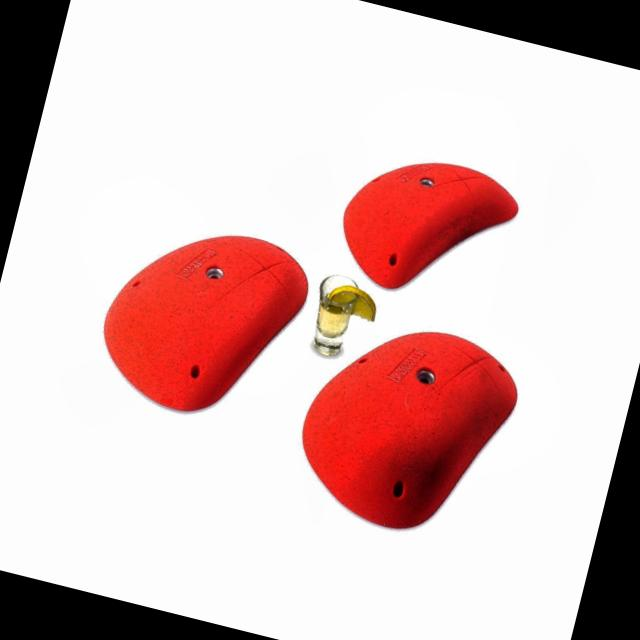Hold: (276, 306, 532, 550), (83, 200, 320, 442), (326, 134, 527, 311)
